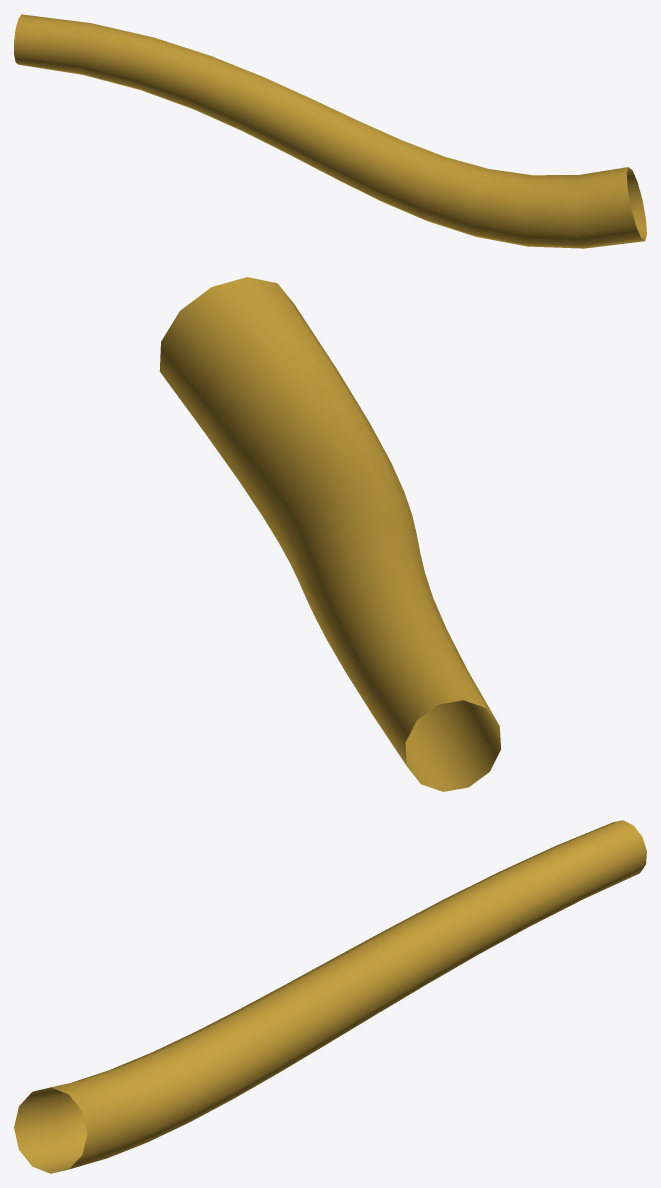
The picture shows the model from 3 angles, top to bottom: view 1: azimuth 30°, elevation 25°; view 2: azimuth 150°, elevation 25°; view 3: azimuth 270°, elevation 25°; orthographic projection. The views are drawn at different scales.
Visible parts, largest first — view 1: 右侧臂丛中干后股; view 2: 右侧臂丛中干后股; view 3: 右侧臂丛中干后股.
Boxes of the visible parts, <box> form: 右侧臂丛中干后股: <box>14,14,646,248</box>; 右侧臂丛中干后股: <box>159,277,500,791</box>; 右侧臂丛中干后股: <box>14,820,646,1173</box>.
Size of the model in its own units: 0.0268 by 0.00882 by 0.0321.
